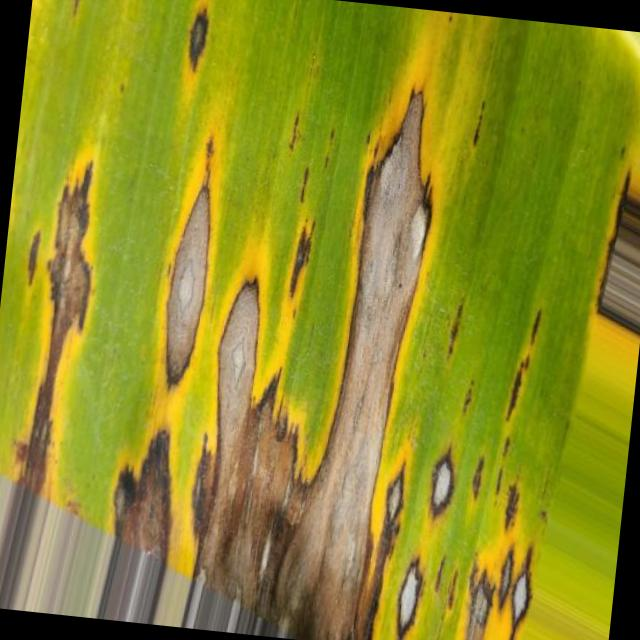Banana_Yellow_Sigatoka: (194, 73, 456, 608), (0, 149, 225, 561), (404, 446, 537, 640)
